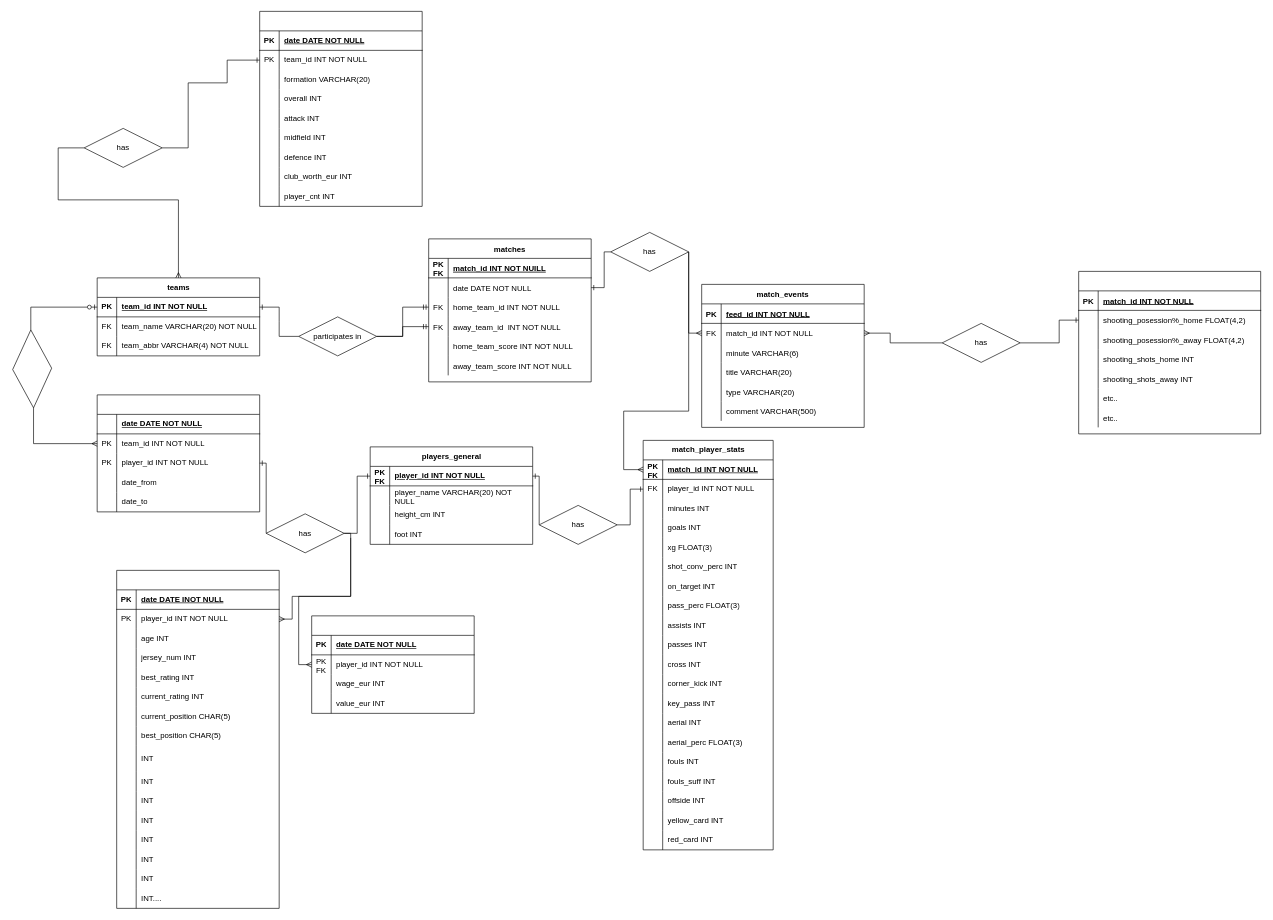
Some shapes in this 1273 by 920 pixel diagram are drawn without their labels. The box of each missing label's shape, as (x1, y1, x2, y2) in pixels:
match_stats: (1078, 271, 1261, 434)
player_finance: (311, 615, 474, 713)
player_stats: (116, 570, 279, 908)
plays for: (11, 329, 53, 409)
team_roster: (97, 394, 260, 512)
team_stats: (259, 11, 422, 206)
